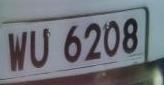0: (101, 15, 122, 60)
2: (83, 18, 103, 63)
6: (61, 20, 85, 70)
8: (120, 13, 141, 59)
U: (28, 26, 54, 73)
W: (5, 26, 31, 76)
